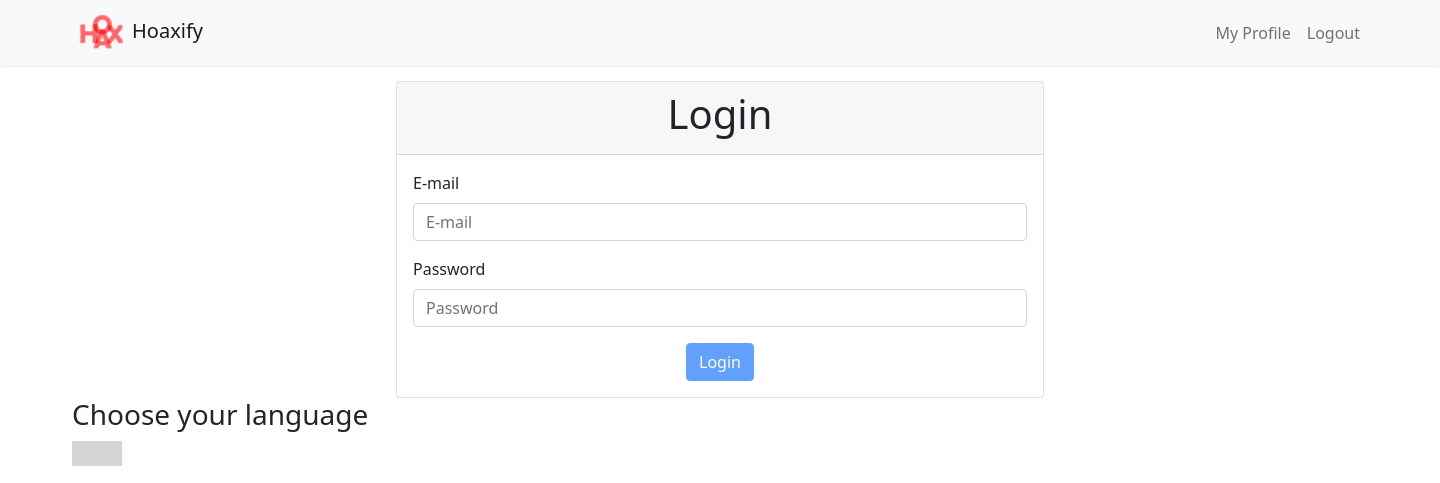
Test: Routing › displays home page when clicking brand logo
Click the picture with alt text "Hoaxify".
click(102, 33)  # box [72, 13, 132, 52]
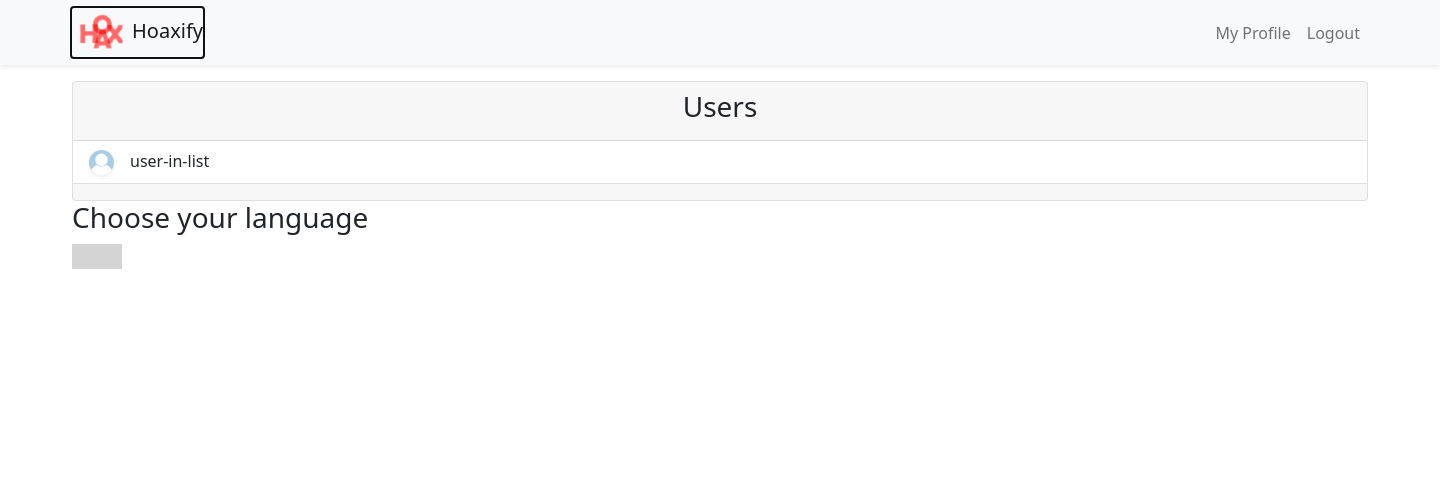
Expected: the element with test id "home-page" is shown, [72, 81, 1368, 201]
